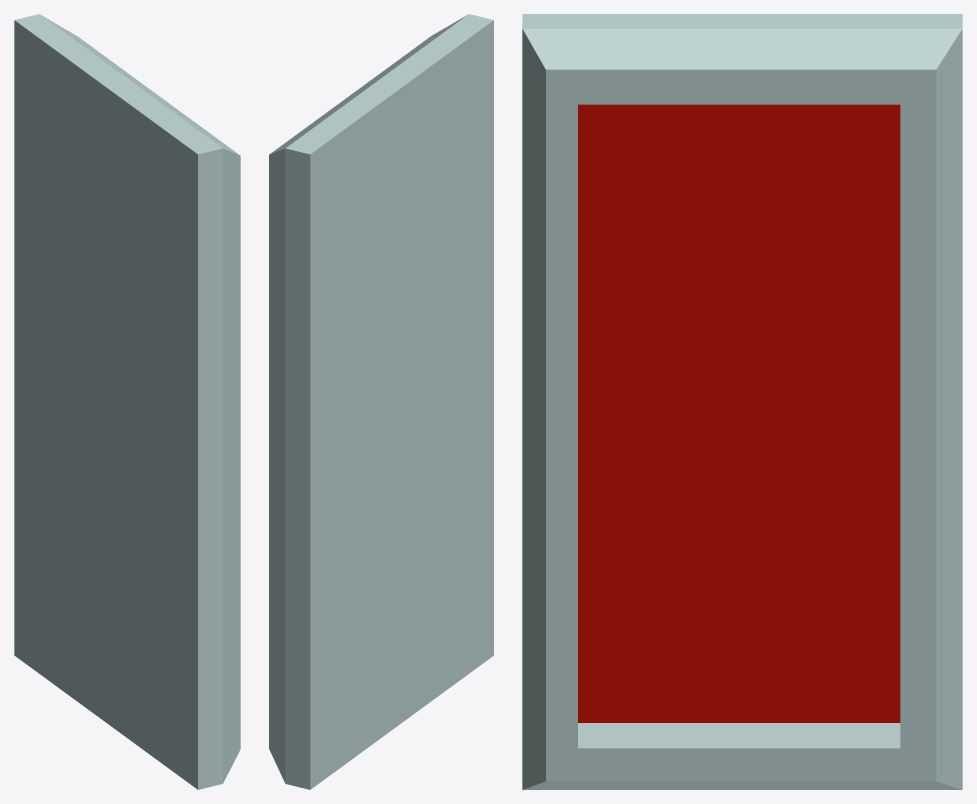
File: sf_red_alert_light.glb
3 renders of one model, left to right at view 1: azimuth 30°, elevation 25°; view 2: azimuth 150°, elevation 25°; view 3: azimuth 270°, elevation 25°, orthographic. The views are drawn at different scales.
Parts seen in each view (by area): view 1: Material; view 2: Material; view 3: Cube17_2, Material.
Boxes of the visible parts, <box> form: Material: <box>14,14,240,789</box>; Material: <box>269,14,493,789</box>; Cube17_2: <box>578,104,900,722</box>; Material: <box>522,14,962,789</box>.
Bounding box in the file's own units: 0.023 × 0.2667 × 0.1397.
